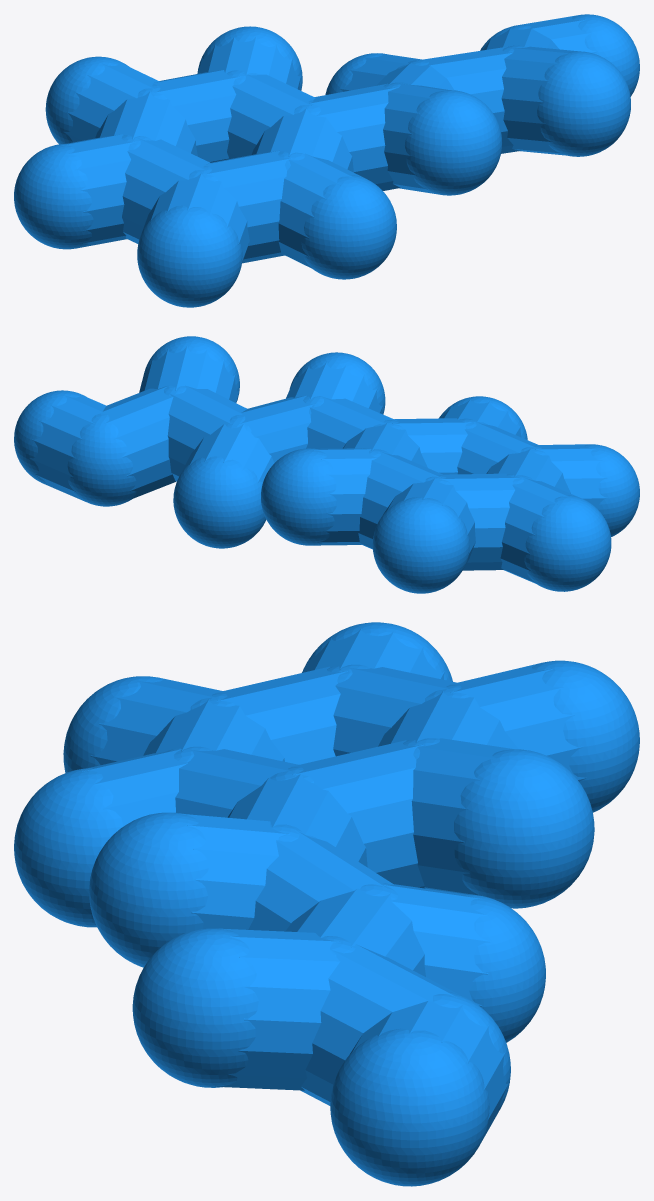
The model's file is 444539-sticks-print_mr_NIH3D.glb.
3 renders of one model, top to bottom at view 1: azimuth 30°, elevation 25°; view 2: azimuth 150°, elevation 25°; view 3: azimuth 270°, elevation 25°, orthographic. The views are drawn at different scales.
Visible parts, largest first — view 1: 444539-sticks-print_NIH3D_mr; view 2: 444539-sticks-print_NIH3D_mr; view 3: 444539-sticks-print_NIH3D_mr.
Boxes of the visible parts, left/top/right/bottom form: 444539-sticks-print_NIH3D_mr: left=14, top=14, right=639, bottom=307; 444539-sticks-print_NIH3D_mr: left=14, top=336, right=639, bottom=593; 444539-sticks-print_NIH3D_mr: left=14, top=622, right=639, bottom=1186.
Bounding box in the file's own units: 10.9 × 2.3 × 6.28.
